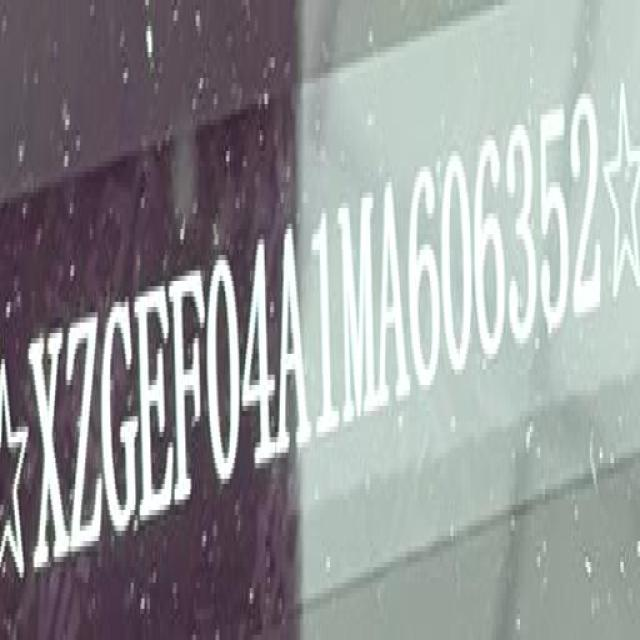0: (210, 256, 242, 493), (443, 145, 474, 381)
1: (311, 209, 334, 445)
2: (569, 85, 604, 328)
3: (505, 113, 539, 351)
4: (243, 240, 273, 474)
5: (542, 93, 571, 344)
6: (474, 125, 504, 366), (411, 163, 442, 396)
A: (277, 226, 310, 464), (378, 178, 410, 417)
E: (136, 272, 175, 520)
F: (170, 266, 208, 514)
G: (99, 290, 140, 542)
M: (340, 188, 378, 430)
X: (29, 328, 68, 573)
Z: (68, 309, 100, 559)
